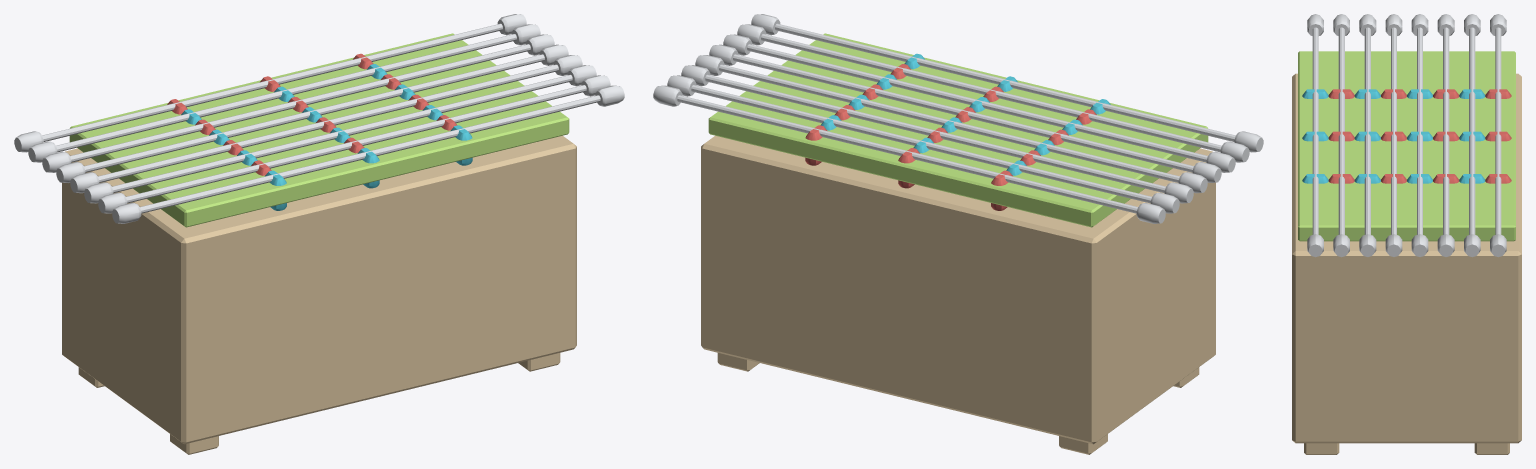
The model's file is laser-tag-arena-and-activity-centre-table-football-tab-b1ed7f6e__34504.glb.
3 views of the same model, side by side, from view 1: azimuth 30°, elevation 25°; view 2: azimuth 150°, elevation 25°; view 3: azimuth 270°, elevation 25° (orthographic). The views are drawn at different scales.
Visible parts, largest first — view 1: table-football-table; view 2: table-football-table; view 3: table-football-table.
Part boxes in pixels (x1,y1,x2,y2): table-football-table: [14, 14, 624, 454]; table-football-table: [653, 14, 1263, 454]; table-football-table: [1292, 14, 1521, 454].
Bounding box in the file's own units: 1.85 × 0.91 × 0.78.
